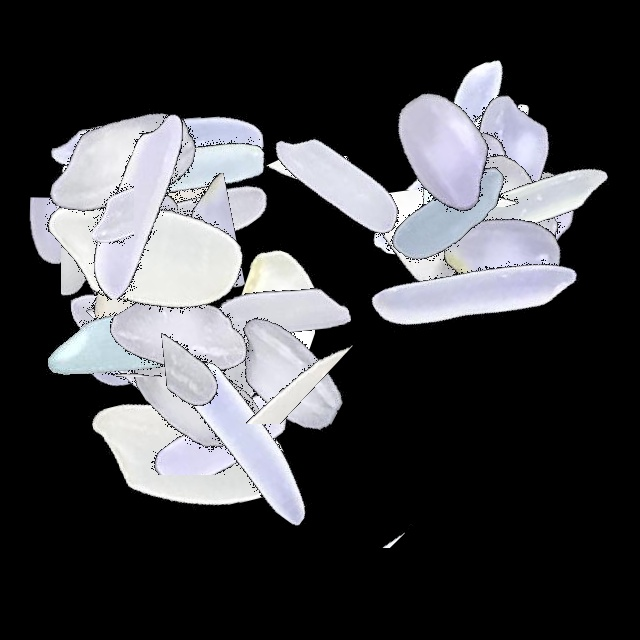Broken: (110, 242, 284, 492), (0, 217, 250, 387), (0, 228, 250, 393), (17, 138, 267, 299), (290, 190, 540, 347), (75, 319, 325, 475), (118, 308, 368, 456), (175, 193, 315, 443), (0, 138, 132, 388), (0, 133, 250, 265), (44, 173, 294, 305), (36, 230, 286, 361), (442, 69, 572, 319), (368, 30, 494, 280), (97, 296, 347, 413), (61, 143, 177, 393), (242, 444, 492, 548), (132, 321, 382, 424), (37, 79, 134, 329), (3, 294, 253, 377), (168, 156, 418, 236), (370, 127, 620, 207)
Full: (343, 36, 593, 286), (0, 103, 250, 353), (390, 97, 640, 347), (324, 54, 574, 304), (0, 141, 250, 391), (382, 23, 632, 273), (350, 54, 600, 304), (67, 327, 317, 577), (38, 134, 288, 384), (73, 275, 323, 525), (71, 90, 321, 340), (390, 94, 640, 344), (33, 18, 283, 268), (157, 189, 407, 439), (48, 51, 298, 301), (14, 216, 264, 466), (390, 86, 640, 336), (161, 250, 411, 500), (0, 108, 250, 358), (377, 131, 627, 381), (115, 311, 365, 561), (215, 59, 465, 309), (22, 123, 272, 373), (0, 39, 250, 289), (14, 80, 264, 330), (325, 86, 575, 336), (348, 165, 598, 415), (320, 28, 570, 278)
